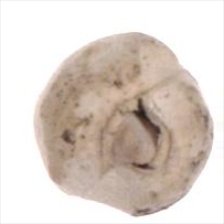L3: (98, 92, 174, 173)
L4: (33, 31, 214, 217)
